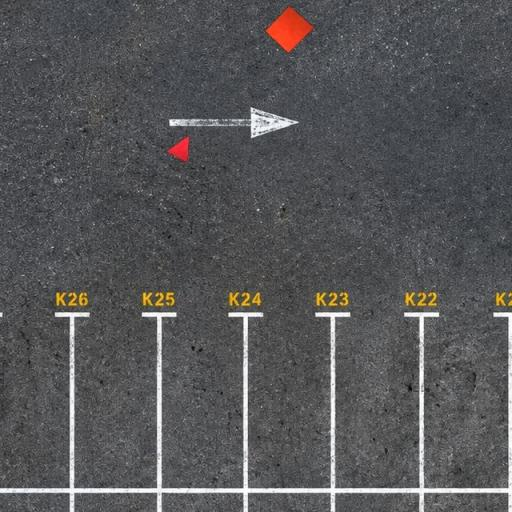RED_SQUARE: (264, 6, 315, 54)
